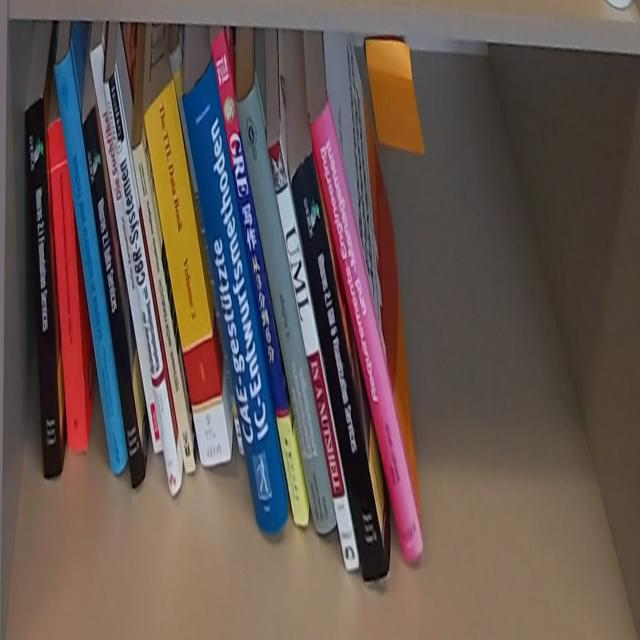Book Spine: (309, 99, 426, 563), (183, 57, 290, 534), (211, 26, 309, 525), (234, 76, 338, 533), (290, 148, 389, 586), (267, 136, 361, 572), (145, 77, 232, 467), (103, 71, 181, 497), (53, 46, 129, 475), (90, 42, 163, 453), (82, 105, 146, 489), (132, 140, 196, 474), (26, 94, 62, 481), (48, 121, 88, 453)
